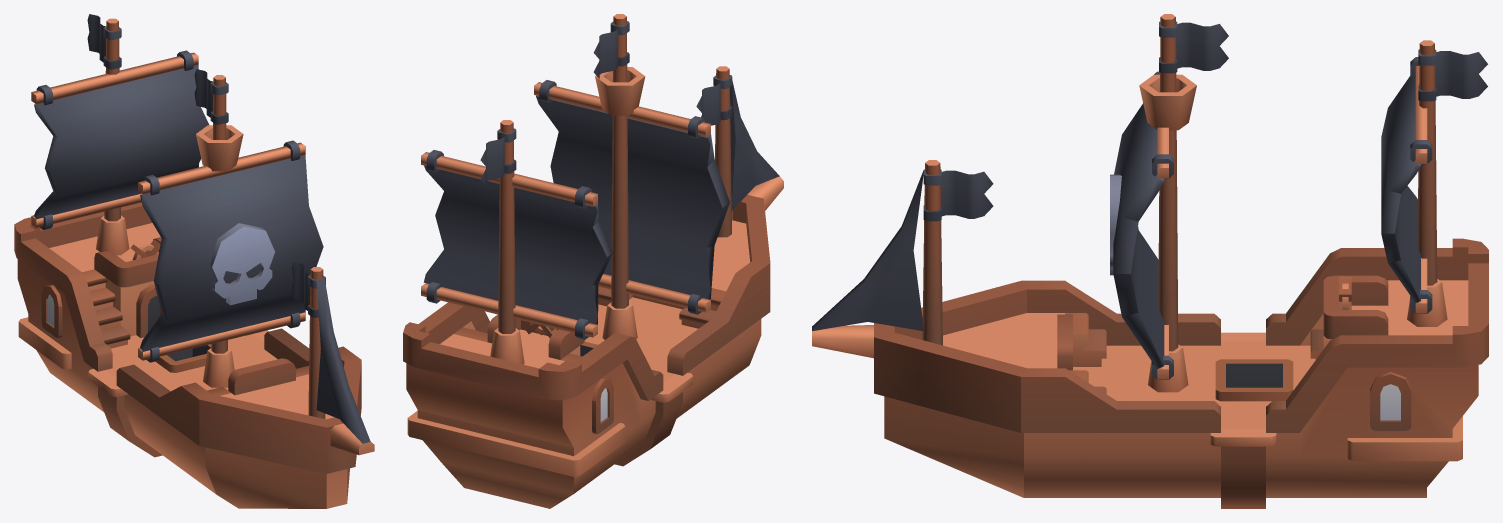
The model's file is piratskepp.glb.
3 renders of one model, left to right at view 1: azimuth 30°, elevation 25°; view 2: azimuth 150°, elevation 25°; view 3: azimuth 270°, elevation 25°, orthographic. The views are drawn at different scales.
Visible parts, largest first — view 1: ship-pirate-large, sail-a, sail-b, flag-c (×3); view 2: ship-pirate-large, sail-a, sail-b, flag-c (×3); view 3: ship-pirate-large, sail-a, sail-b, flag-c (×3).
Boxes of the visible parts, <box> form: ship-pirate-large: <box>14,18,374,508</box>; sail-a: <box>138,140,323,362</box>; sail-b: <box>31,50,209,229</box>; flag-c (×3): <box>87,14,325,317</box>; ship-pirate-large: <box>403,14,783,508</box>; sail-a: <box>534,80,729,314</box>; sail-b: <box>421,150,612,339</box>; flag-c (×3): <box>480,21,732,186</box>; ship-pirate-large: <box>812,14,1488,508</box>; sail-a: <box>1110,71,1173,379</box>; sail-b: <box>1381,57,1432,313</box>; flag-c (×3): <box>923,21,1487,221</box>.
Size of the model in its own units: 4.8 by 9.96 by 13.1.
Materials: 1 (1 with a texture image).
